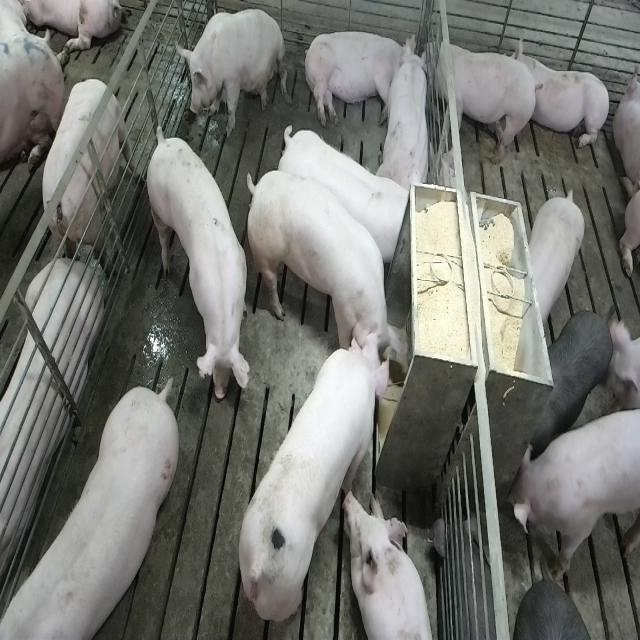Feeding: (236, 328, 398, 625), (250, 167, 415, 381)
Lateral_lying: (301, 29, 417, 128)
Sitting: (172, 7, 286, 140)
Standing: (0, 383, 176, 640), (144, 128, 247, 412), (508, 402, 638, 580), (34, 74, 136, 276), (277, 121, 412, 261), (426, 30, 538, 166), (532, 306, 612, 456), (527, 190, 590, 332)
Sternal_lying: (0, 258, 101, 608), (346, 489, 438, 640), (514, 34, 612, 154), (378, 40, 434, 196)
